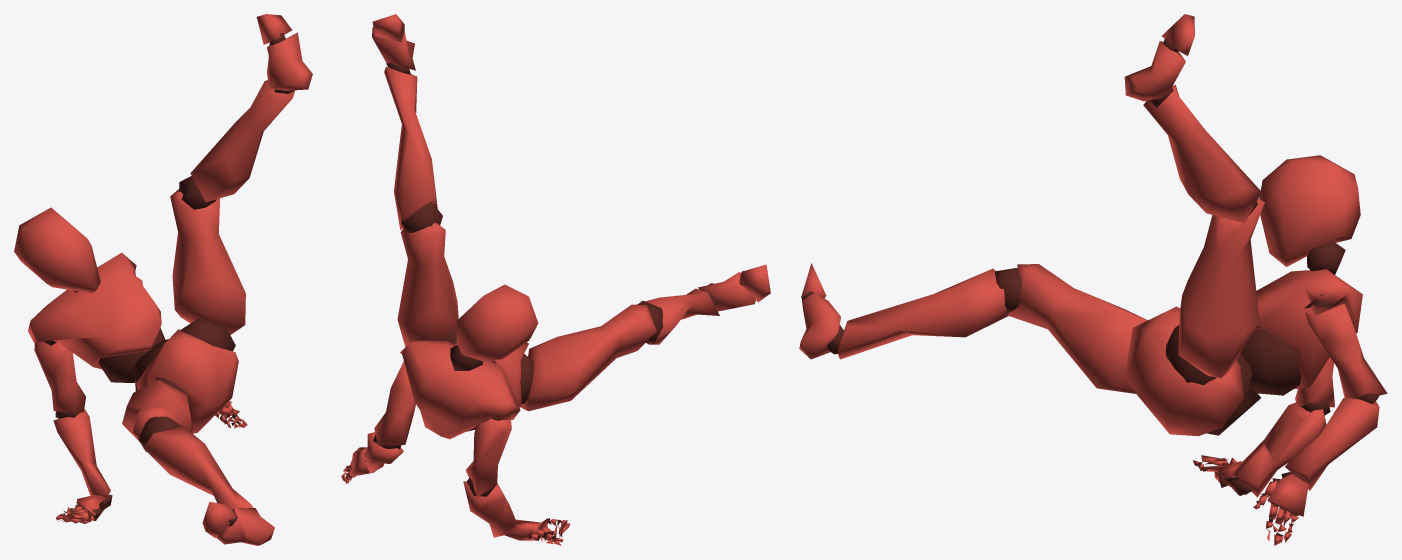
3 views of the same model, side by side, from view 1: azimuth 30°, elevation 25°; view 2: azimuth 150°, elevation 25°; view 3: azimuth 270°, elevation 25° (orthographic). The views are drawn at different scales.
Visible parts, largest first — view 1: Beta_Surface; view 2: Beta_Surface; view 3: Beta_Surface.
Boxes of the visible parts, x1,y1,x2,y2 form: Beta_Surface: [14, 14, 312, 545]; Beta_Surface: [341, 14, 770, 545]; Beta_Surface: [799, 14, 1387, 545].
Size of the model in its own units: 8.32 by 15.4 by 14.59.
